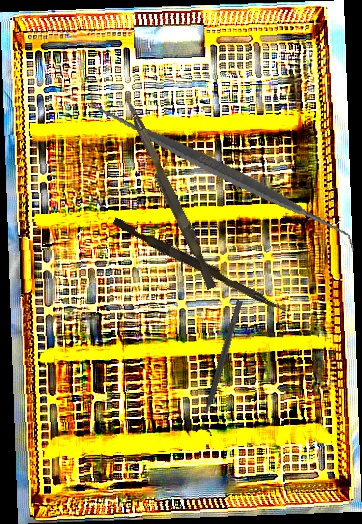Fixation Ring: (191, 297, 251, 437)
Pusher: (116, 96, 222, 291), (109, 217, 291, 314)
Spatula Surgical: (88, 41, 356, 302)
